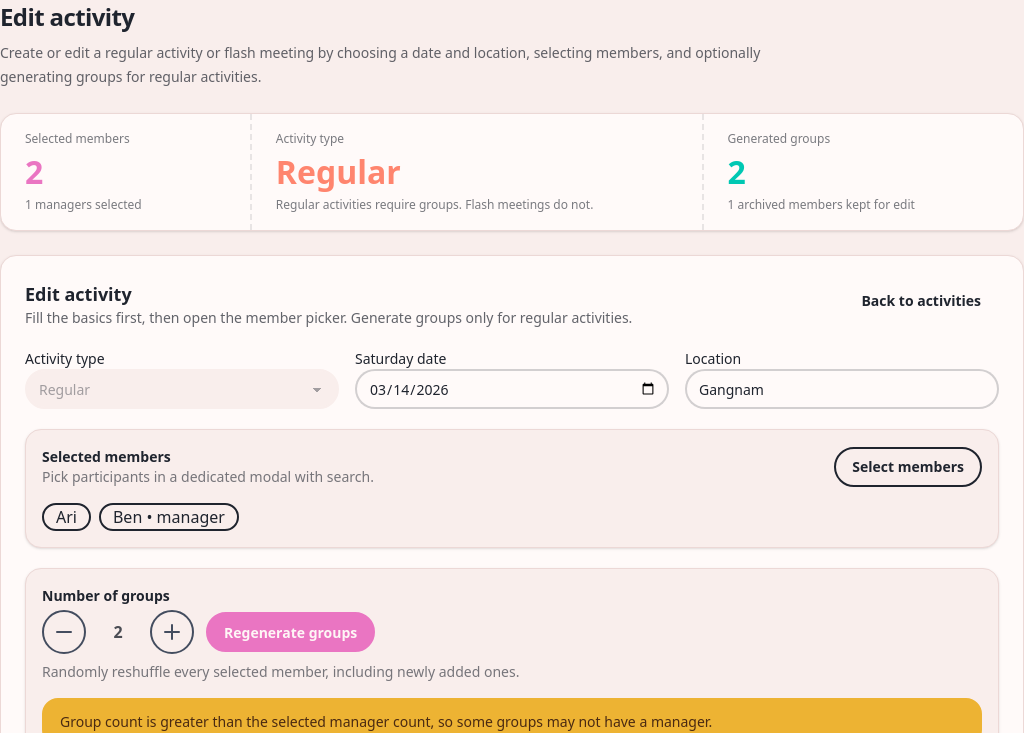
Test: activity builder page › drops grouped members onto an existing unassigned member tile
The width and height of the screenshot is (1024, 733).
Click the button "Select members" at (908, 466), box [834,446,982,486]
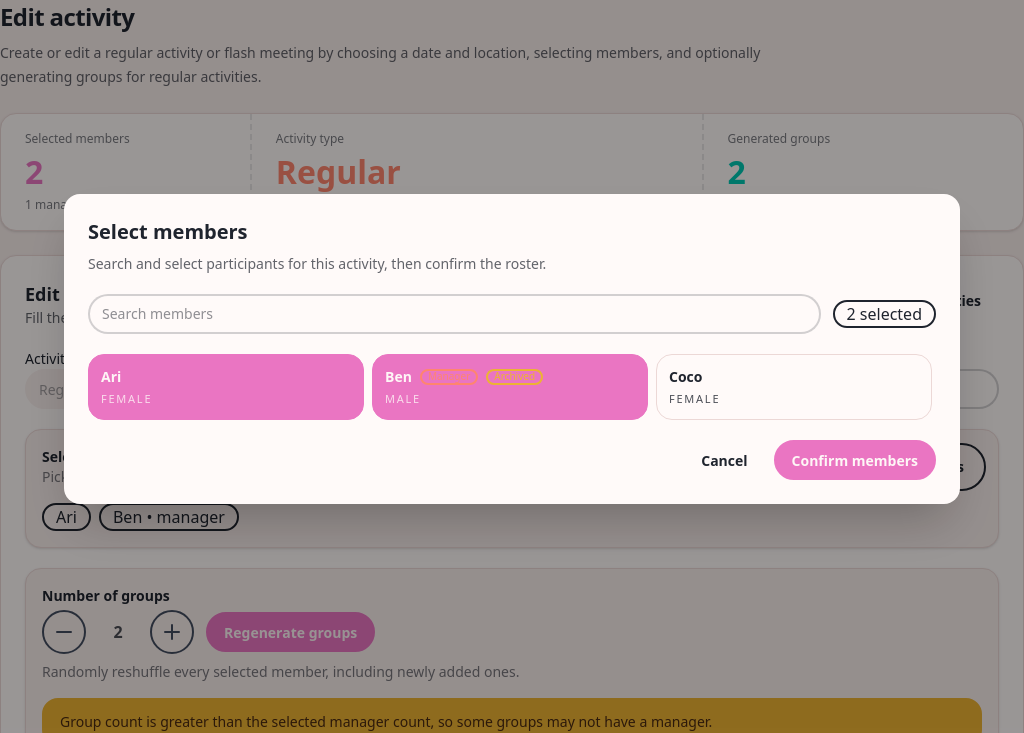
Click the button "Coco Female" at (686, 376), box [656,354,932,420]
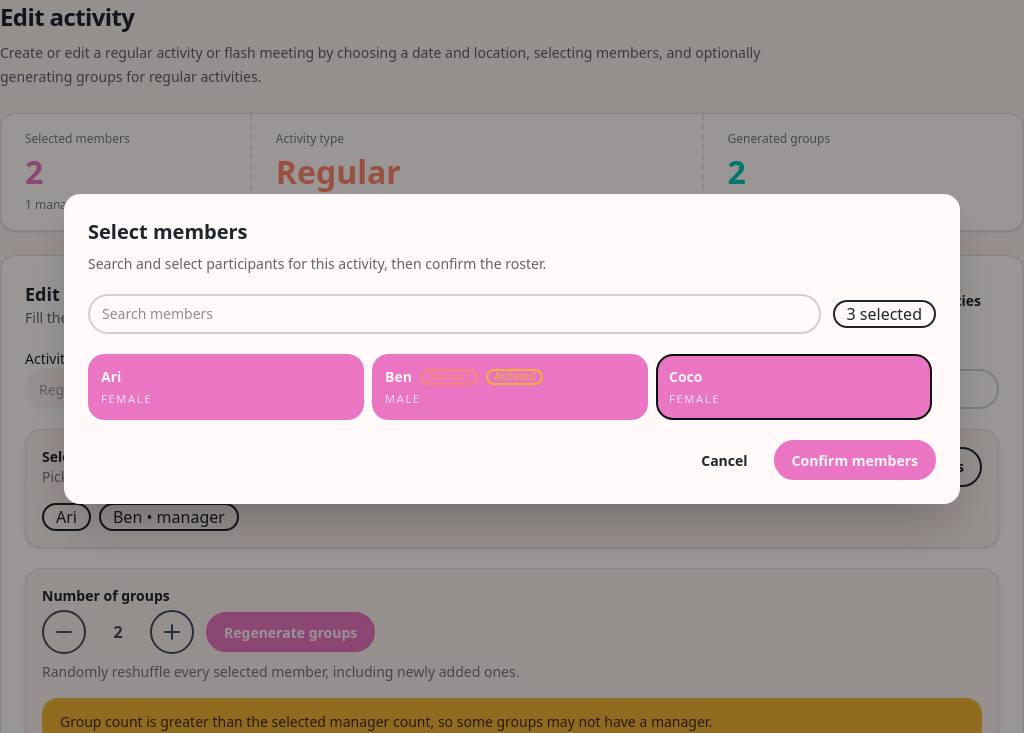
Click the button "Confirm members" at (855, 460), box [774,440,936,480]
(page scrolled)
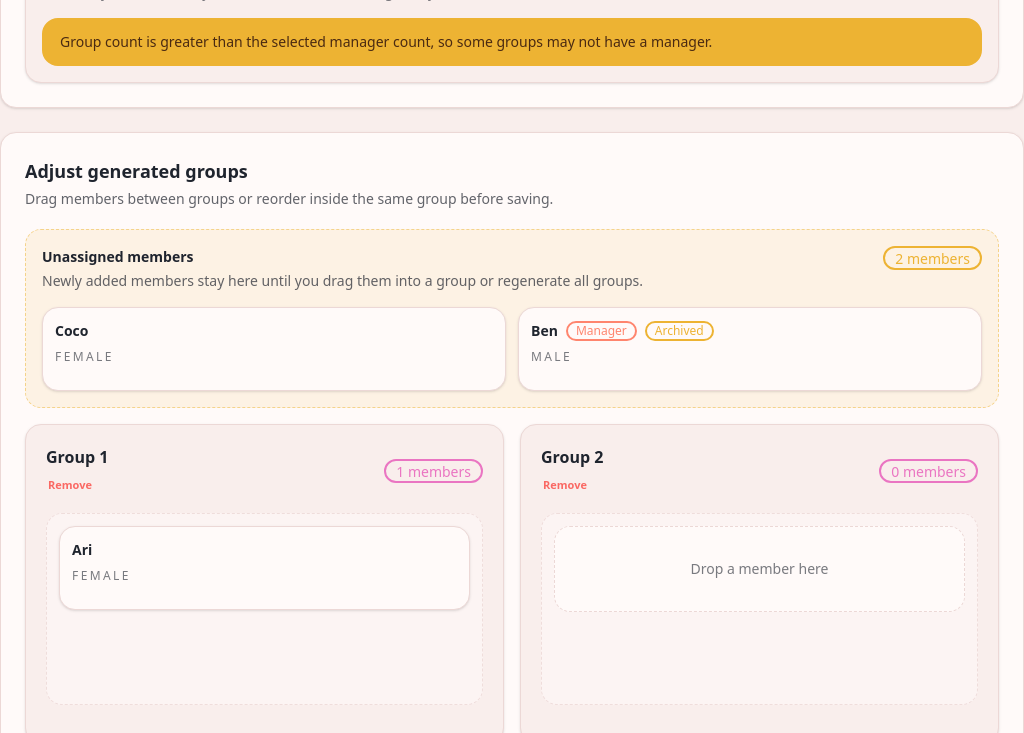
Expected: the button "Ben Manager Archived Male" is shown, [518,307,982,391]
Result: the button "Coco Female" is shown at [42,307,506,391]
Result: the heading "Unassigned members" is shown at [42,247,194,266]
